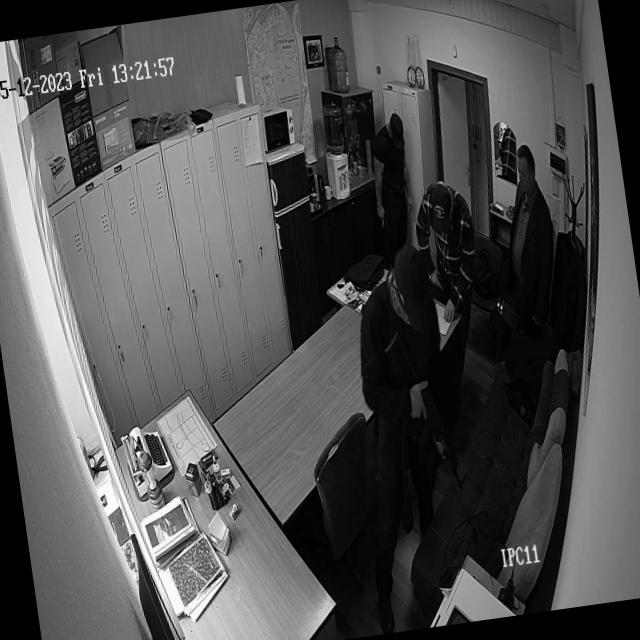gun: (381, 318, 469, 502), (380, 208, 392, 252)
person: (491, 140, 571, 342), (410, 174, 488, 324)
person with a gun: (344, 235, 478, 548), (362, 110, 418, 252)
